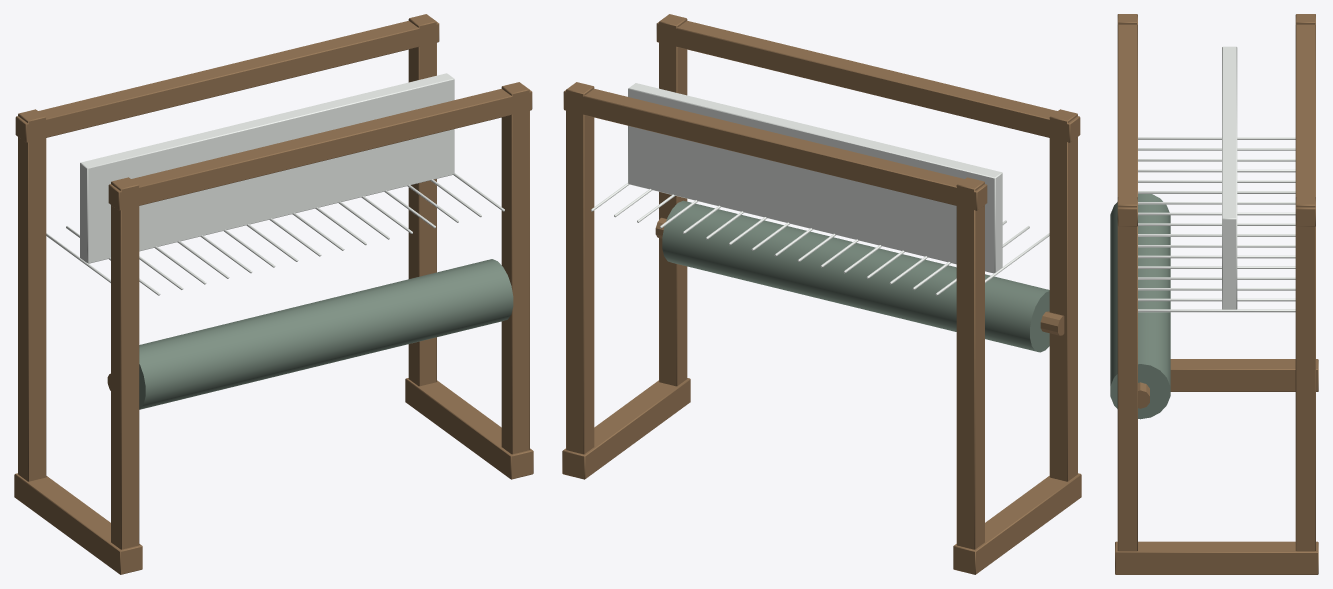
The model's file is feM_Loom.fbx.
3 views of the same model, side by side, from view 1: azimuth 30°, elevation 25°; view 2: azimuth 150°, elevation 25°; view 3: azimuth 270°, elevation 25° (orthographic). The views are drawn at different scales.
Visible parts, largest first — view 1: feM_Loom_Base, FeSpin_x0.3_ClothRoll; view 2: feM_Loom_Base, FeSpin_x0.3_ClothRoll; view 3: feM_Loom_Base, FeSpin_x0.3_ClothRoll.
Part boxes in pixels (x1,y1,x2,y2): feM_Loom_Base: (14, 14, 533, 574); FeSpin_x0.3_ClothRoll: (107, 259, 513, 409); feM_Loom_Base: (562, 14, 1081, 574); FeSpin_x0.3_ClothRoll: (655, 200, 1064, 352); feM_Loom_Base: (1115, 14, 1318, 574); FeSpin_x0.3_ClothRoll: (1110, 194, 1170, 419).
Bounding box in the file's own units: 1.8 × 1.6 × 0.8182.
